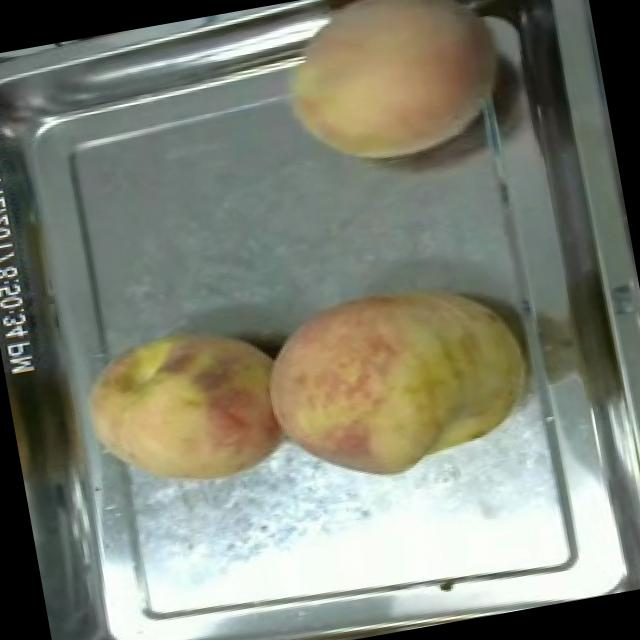Fruit: (247, 258, 548, 502), (64, 304, 302, 512), (260, 0, 516, 187)
